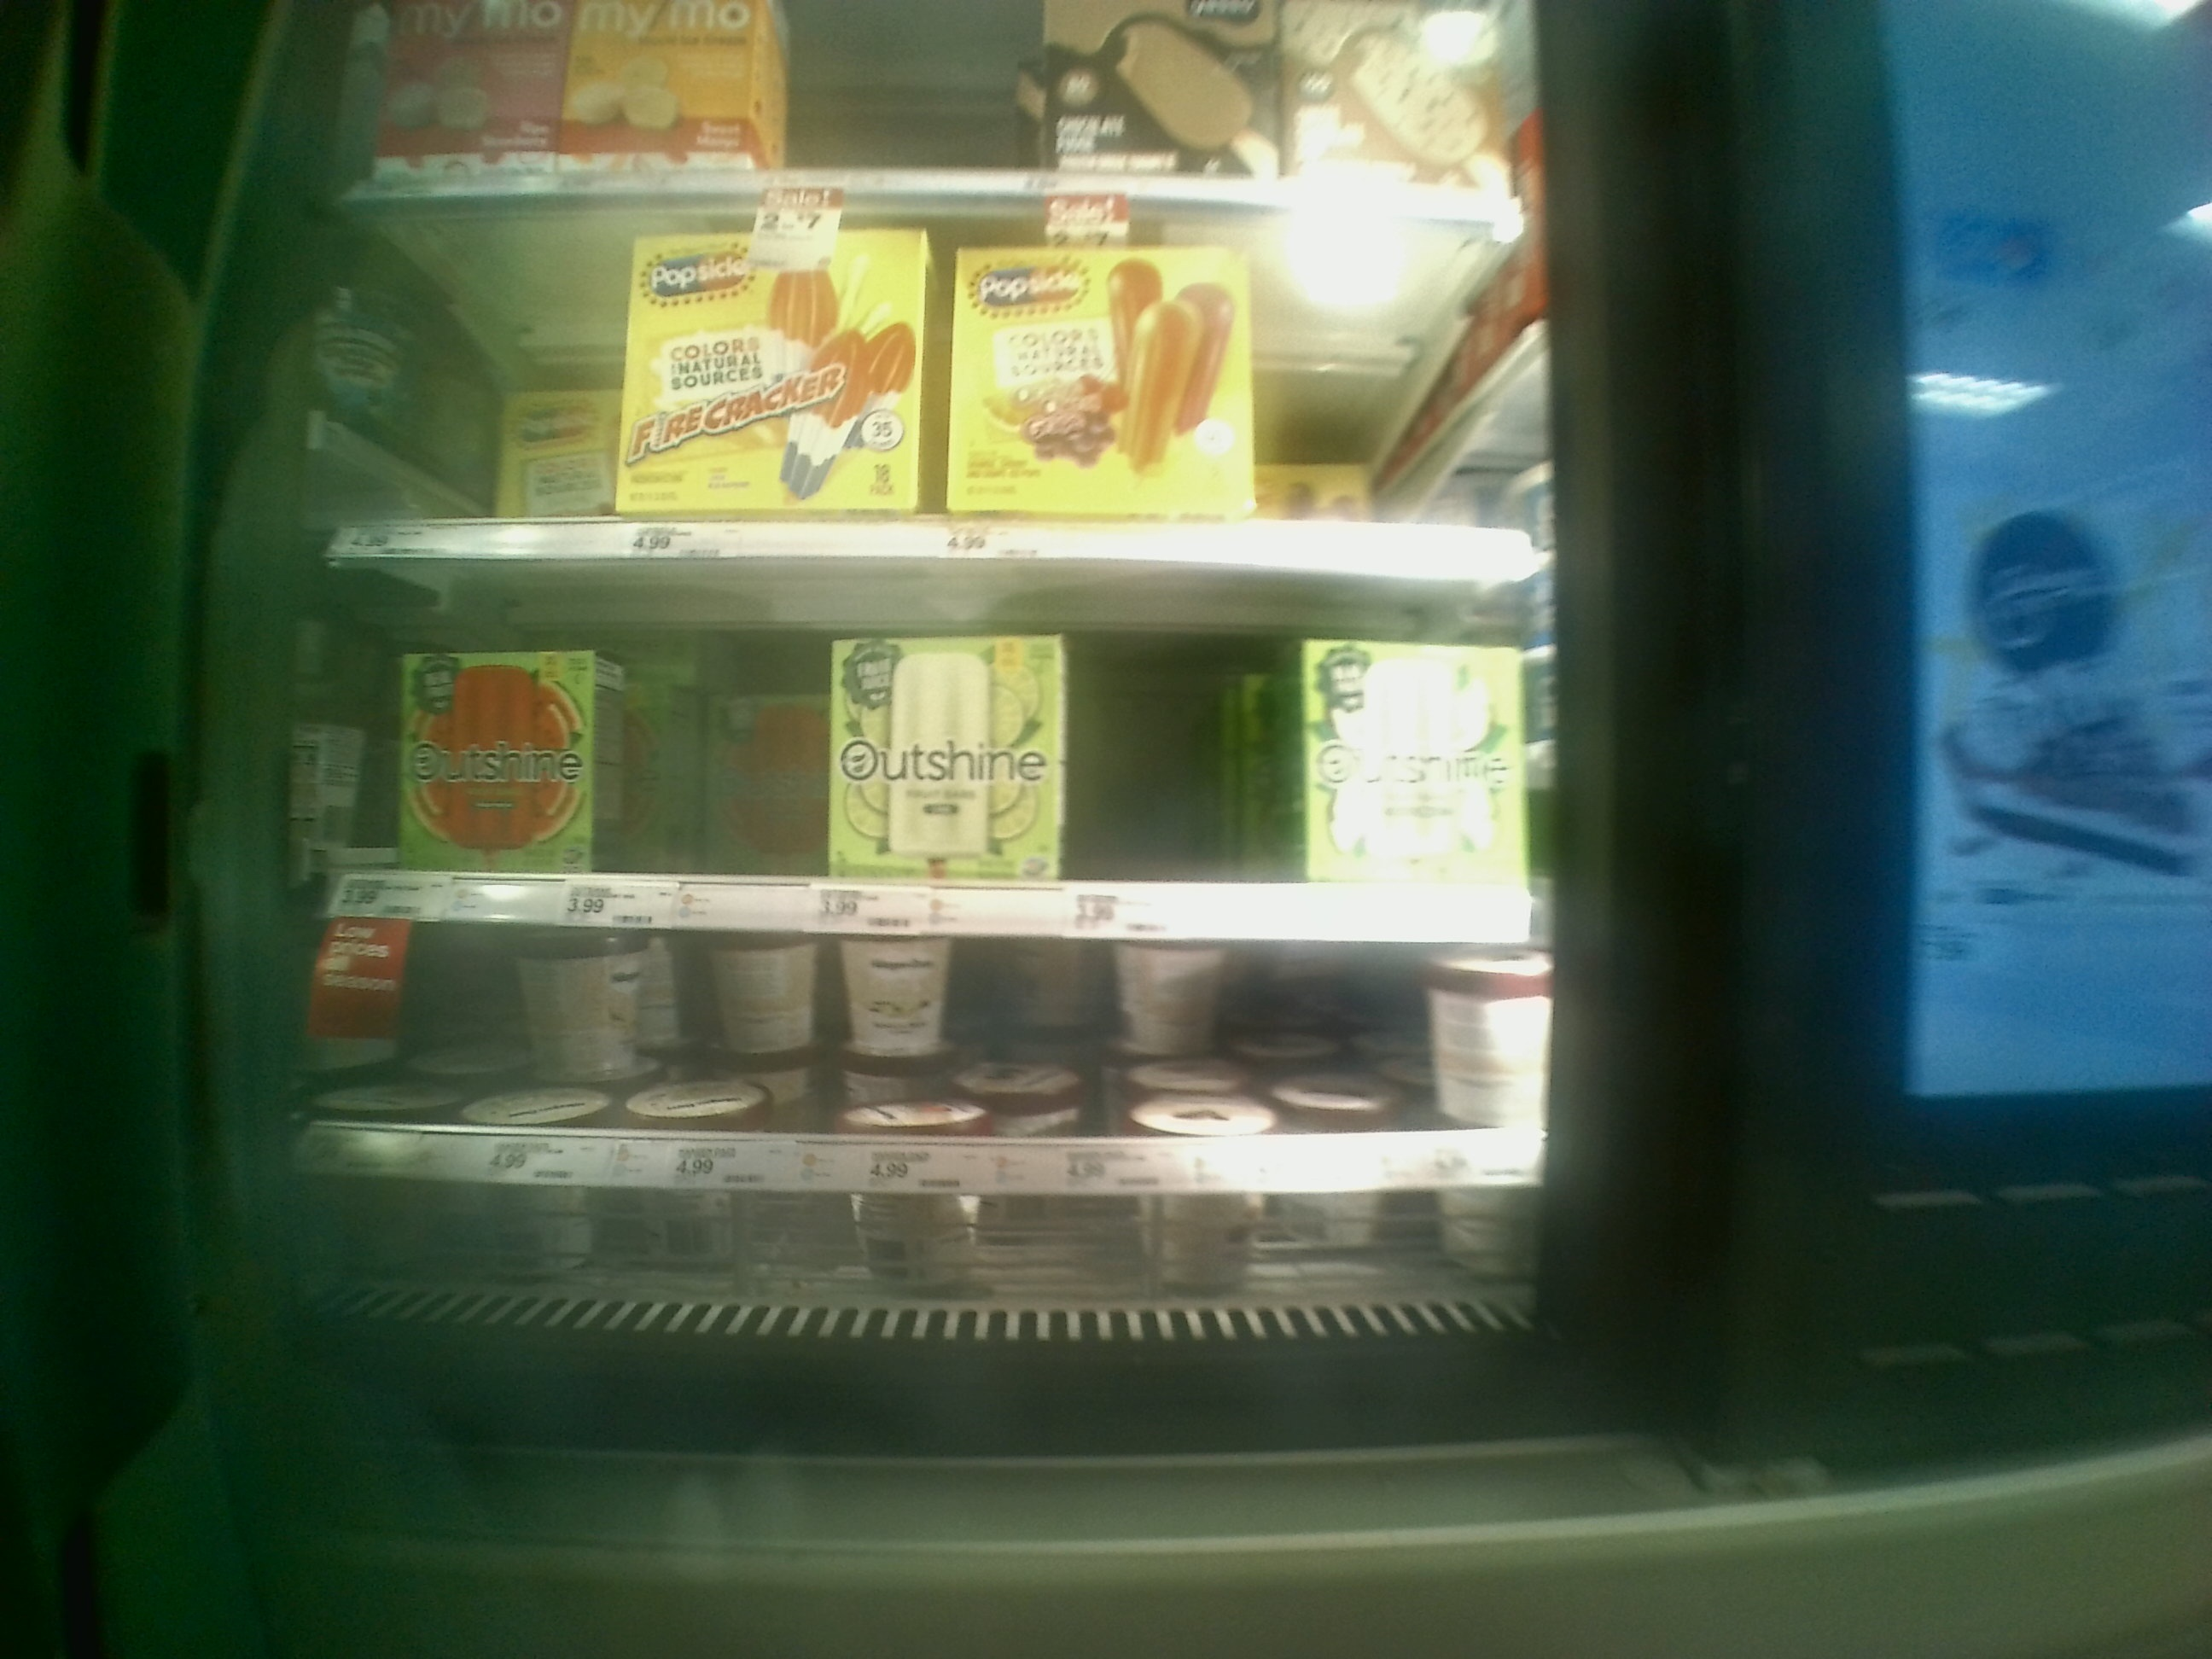shelf: (298, 932, 1555, 1361), (324, 551, 1543, 932), (320, 209, 1541, 573)
